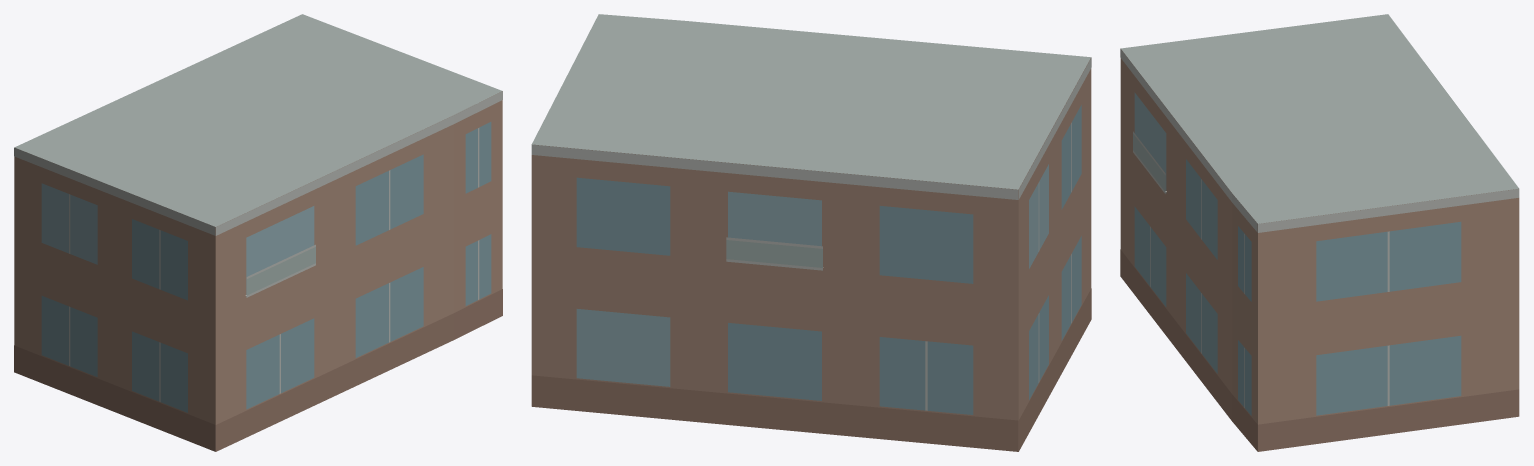
Rendered from survey-upis-33006630.glb.
3 renders of one model, left to right at view 1: azimuth 30°, elevation 25°; view 2: azimuth 150°, elevation 25°; view 3: azimuth 270°, elevation 25°, orthographic. The views are drawn at different scales.
Visible parts, largest first — view 1: survey-upis-33006630.tmp; view 2: survey-upis-33006630.tmp; view 3: survey-upis-33006630.tmp.
Boxes of the visible parts, x1,y1,x2,y2 form: survey-upis-33006630.tmp: (14, 14, 502, 451); survey-upis-33006630.tmp: (531, 14, 1091, 451); survey-upis-33006630.tmp: (1120, 14, 1519, 451).
Bounding box in the file's own units: 12.05 × 6.1 × 9.68.
